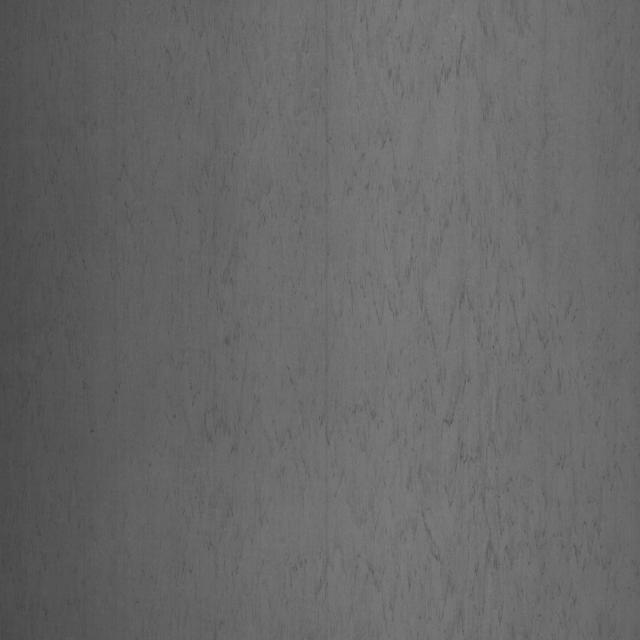inclusion: (344, 28, 622, 604), (167, 27, 331, 585)
